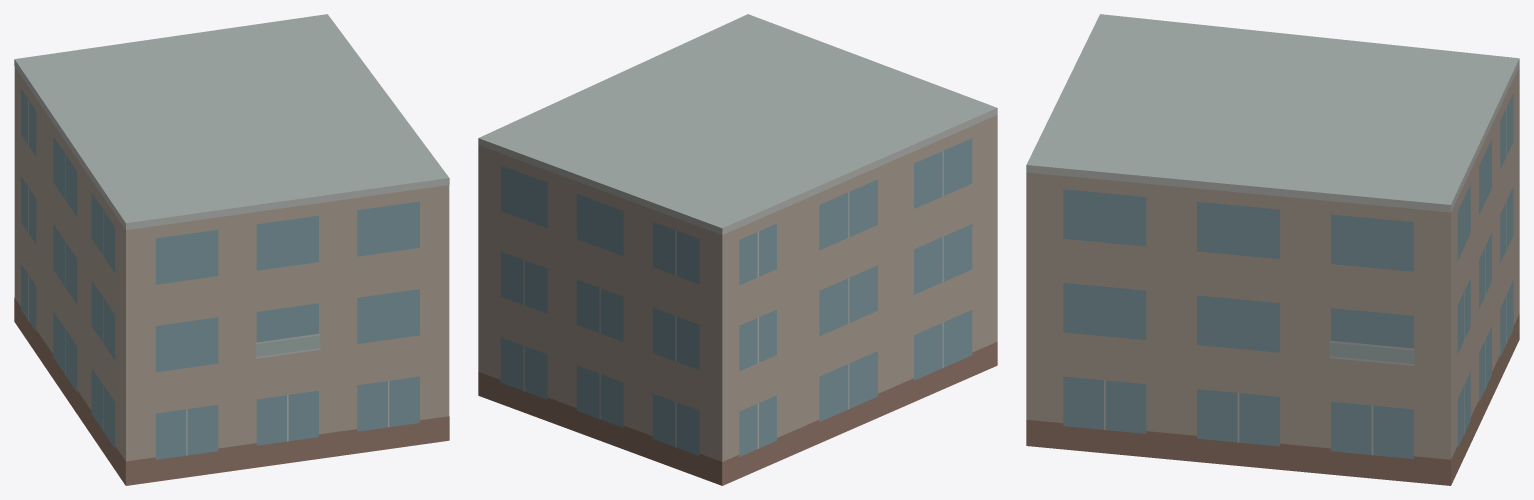
The model's file is survey-upis-32544070.glb.
3 views of the same model, side by side, from view 1: azimuth 30°, elevation 25°; view 2: azimuth 150°, elevation 25°; view 3: azimuth 270°, elevation 25° (orthographic). The views are drawn at different scales.
Parts seen in each view (by area): view 1: survey-upis-32544070.tmp; view 2: survey-upis-32544070.tmp; view 3: survey-upis-32544070.tmp.
Boxes of the visible parts, x1,y1,x2,y2 form: survey-upis-32544070.tmp: [14, 14, 449, 485]; survey-upis-32544070.tmp: [478, 14, 997, 485]; survey-upis-32544070.tmp: [1026, 14, 1519, 485].
Bounding box in the file's own units: 13.35 × 9.15 × 14.57.
